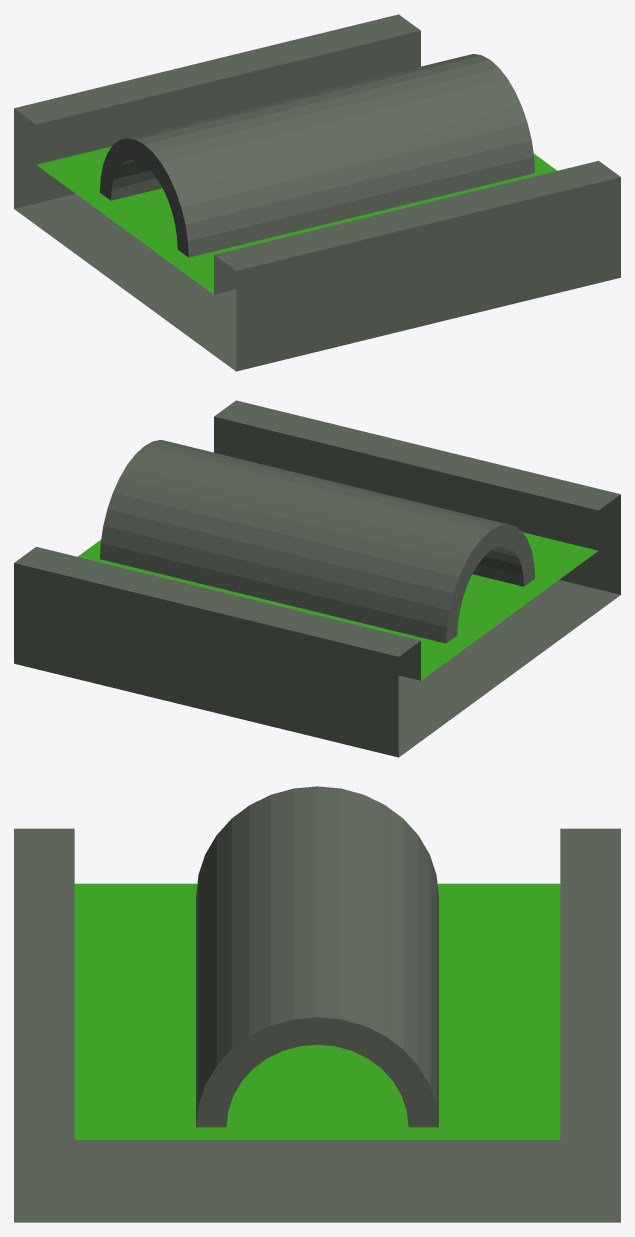
Rendered from StraightTunnel.fbx.
3 views of the same model, one above another, from view 1: azimuth 30°, elevation 25°; view 2: azimuth 150°, elevation 25°; view 3: azimuth 270°, elevation 25° (orthographic). The views are drawn at different scales.
Parts seen in each view (by area): view 1: Straight.010; view 2: Straight.010; view 3: Straight.010.
Part boxes in pixels (x1=…): Straight.010: x1=14, y1=14, x2=620, y2=371; Straight.010: x1=14, y1=400, x2=620, y2=757; Straight.010: x1=14, y1=786, x2=620, y2=1222.
Size of the model in its own units: 200 by 70 by 200.
